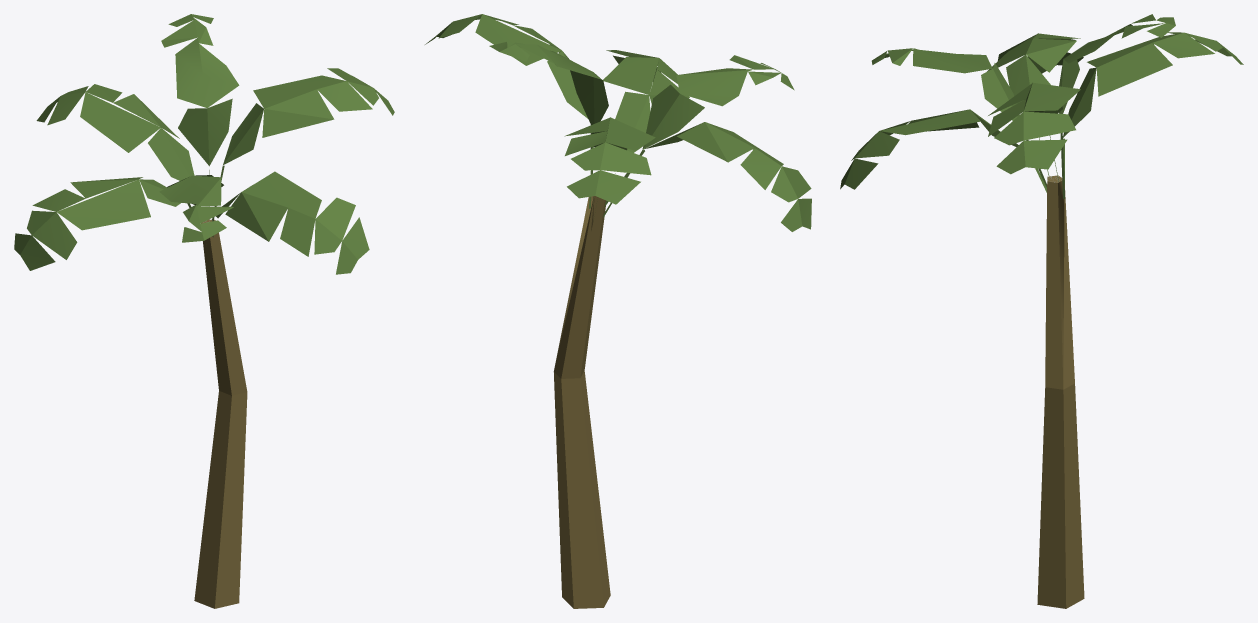
The model's file is Tree_Palm_04.fbx.
3 renders of one model, left to right at view 1: azimuth 30°, elevation 25°; view 2: azimuth 150°, elevation 25°; view 3: azimuth 270°, elevation 25°, orthographic. The views are drawn at different scales.
Visible parts, largest first — view 1: Model; view 2: Model; view 3: Model.
Boxes of the visible parts, <box> form: Model: <box>14,14,394,608</box>; Model: <box>425,14,811,608</box>; Model: <box>840,14,1243,608</box>.
Size of the model in its own units: 536 by 781 by 485.
